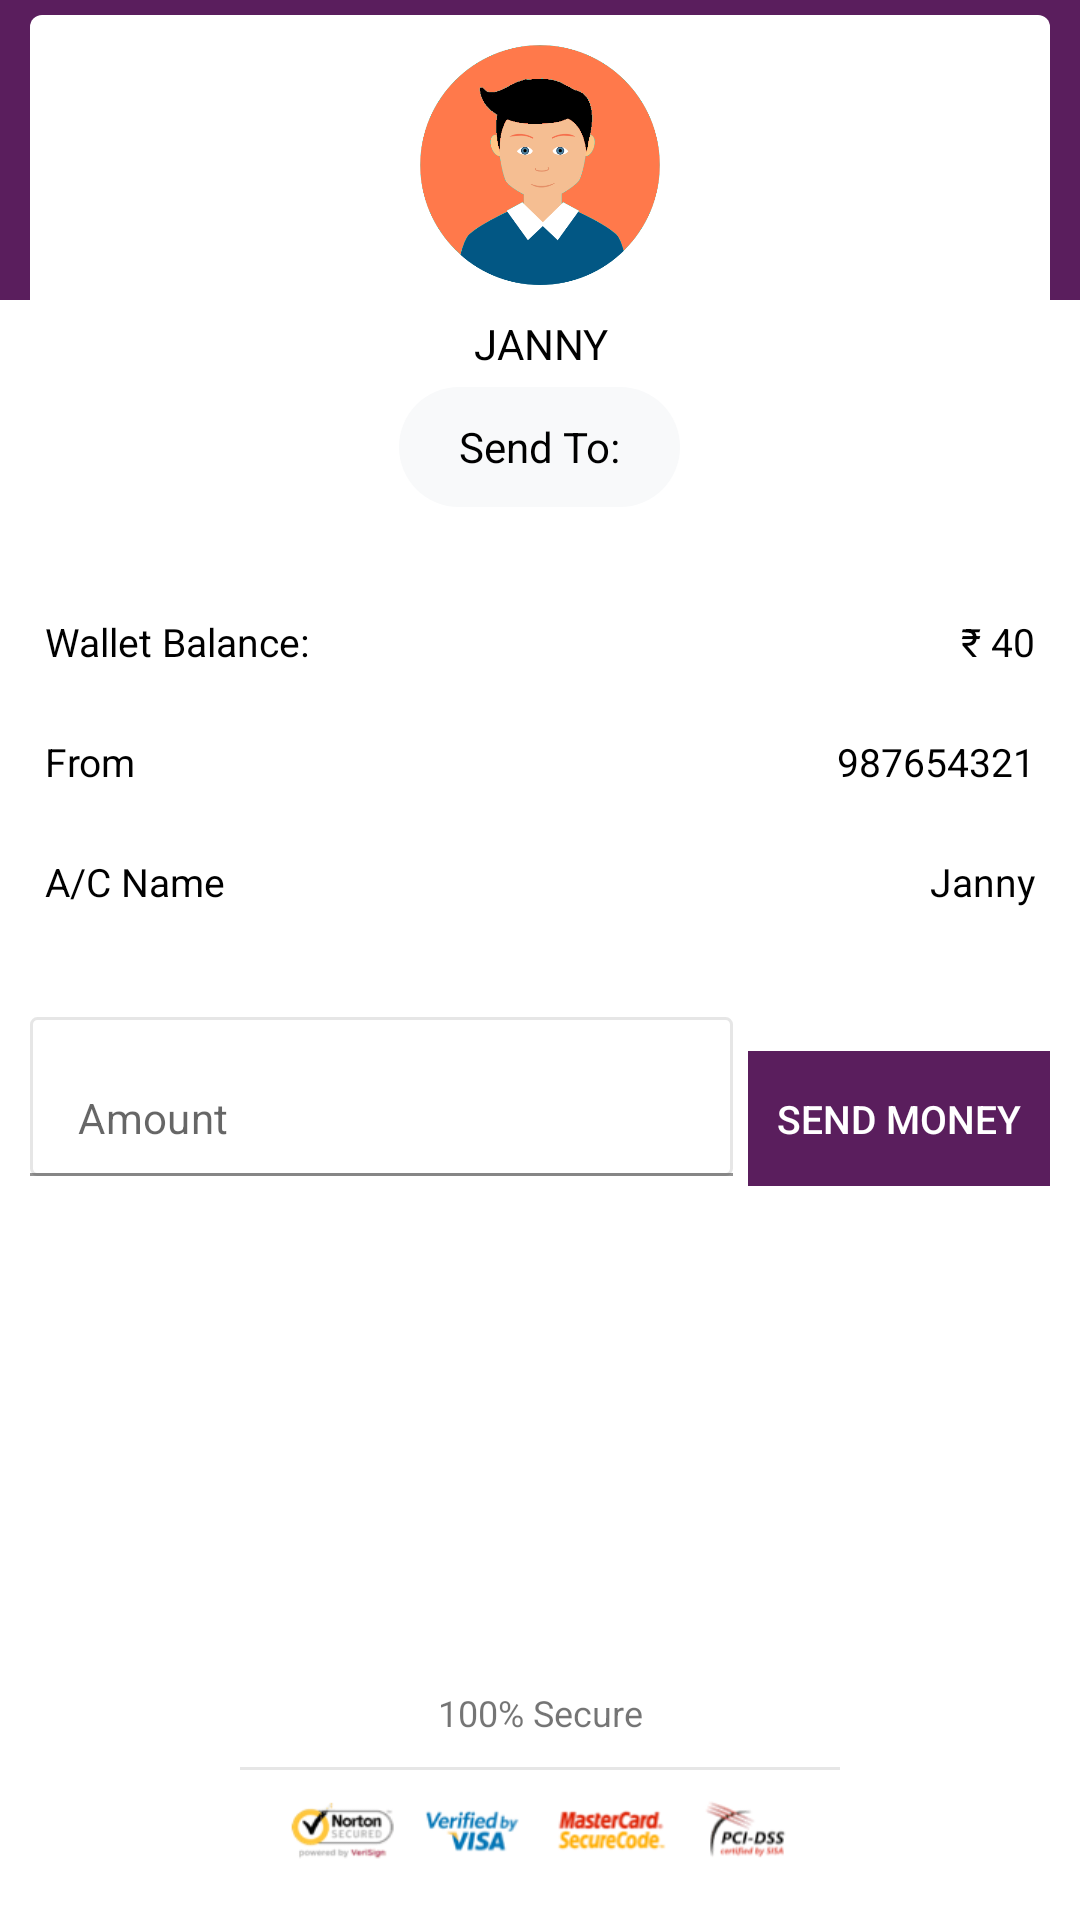

Where icons sit on this 1080 x 1920 app screen, as (x1=x1, y1=y1, x2=x2, y2=y2):
avtar: (x1=420, y1=45, x2=660, y2=285)
